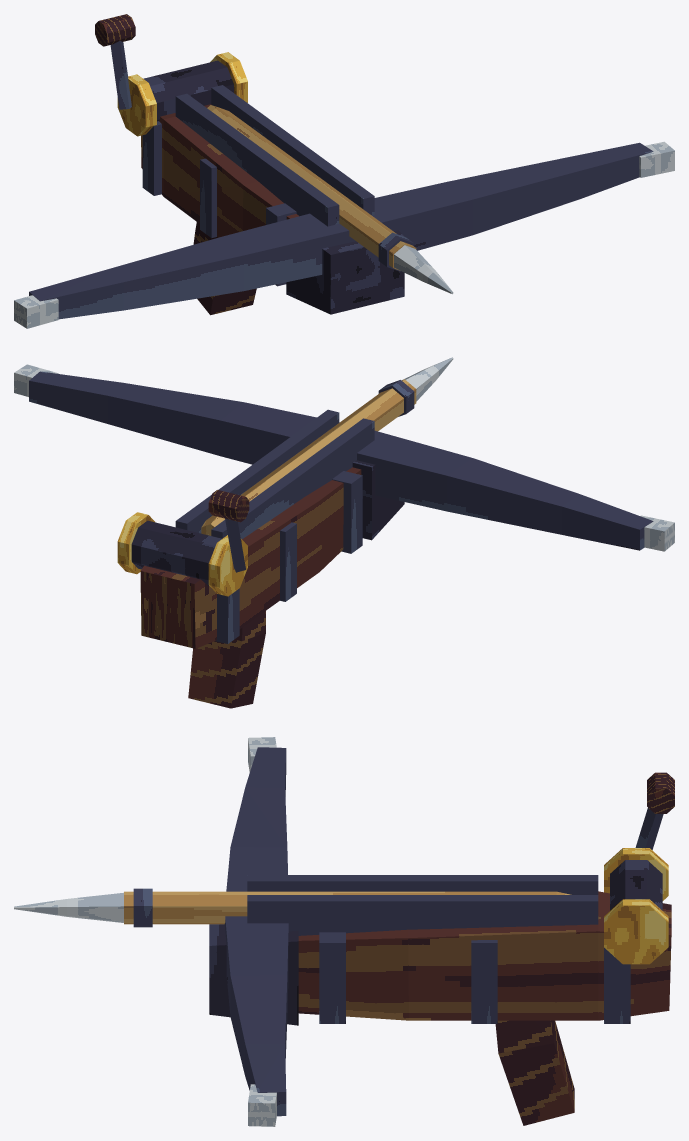
Rendered from stake_crossbow_relaxed.glb.
3 views of the same model, one above another, from view 1: azimuth 30°, elevation 25°; view 2: azimuth 150°, elevation 25°; view 3: azimuth 270°, elevation 25° (orthographic). The views are drawn at different scales.
Visible parts, largest first — view 1: crossbow, stake, crank; view 2: crossbow, stake, crank; view 3: crossbow, stake, crank.
Part boxes in pixels (x1,y1,x2,y2): crossbow: (14, 52, 674, 328); stake: (207, 105, 453, 294); crank: (95, 14, 135, 109); crossbow: (14, 364, 674, 708); stake: (201, 357, 453, 535); crank: (208, 490, 249, 572); crossbow: (209, 737, 671, 1126); stake: (14, 888, 571, 927); crank: (635, 772, 674, 849).
Bounding box in the file's own units: 0.3454 × 0.1325 × 0.2634.
Materials: 1 (1 with a texture image).
